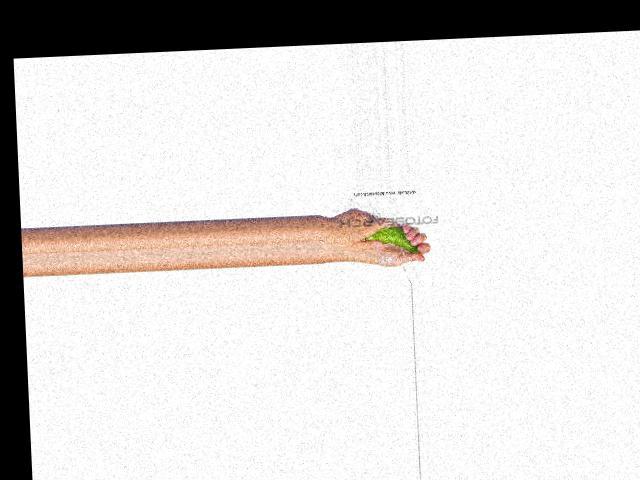cucumber: (362, 224, 419, 255)
